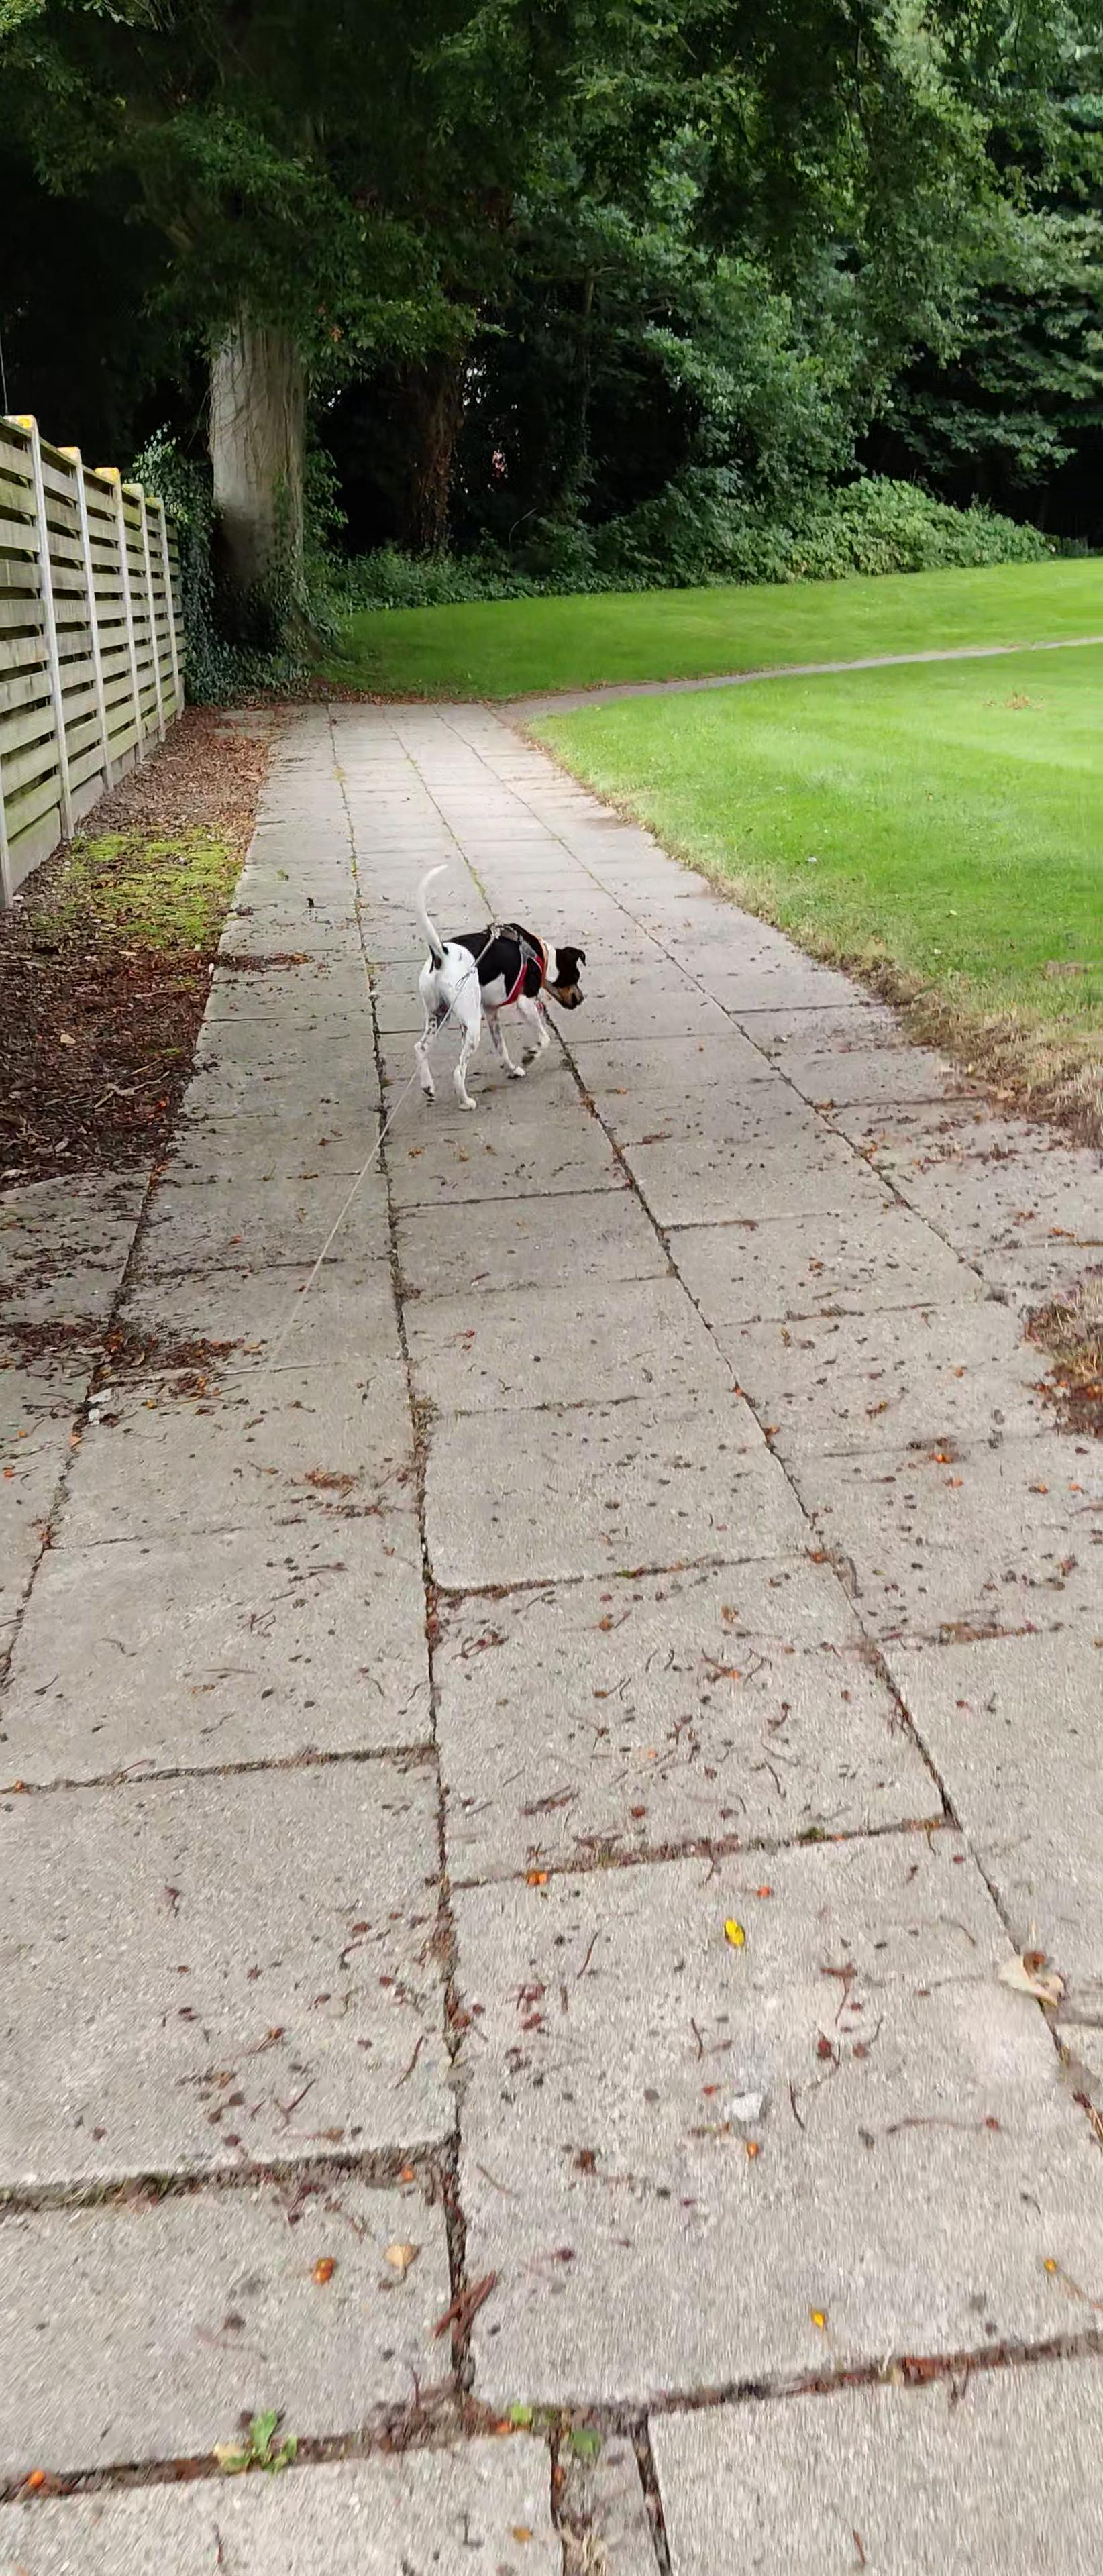Dog: (406, 858, 592, 1112)
